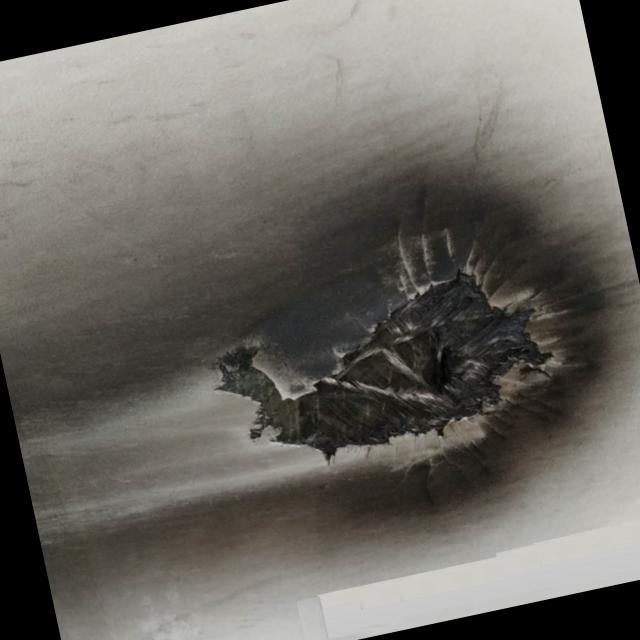crack: (80, 163, 619, 570)
